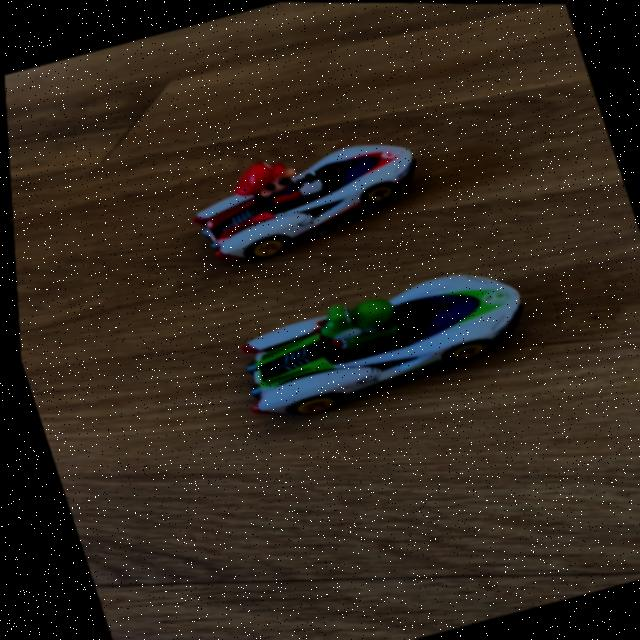mario: (160, 111, 444, 276)
yoshi: (192, 230, 567, 436)
